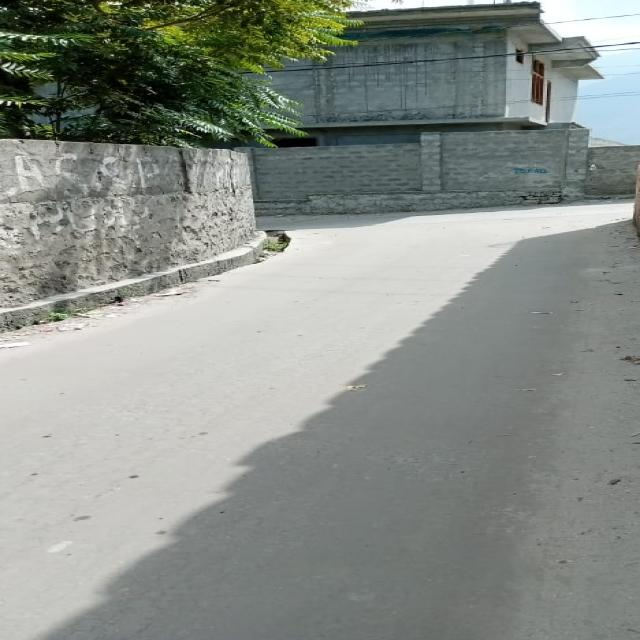Left-Turn: (262, 204, 404, 280)
Right-Turn: (457, 194, 626, 242)
